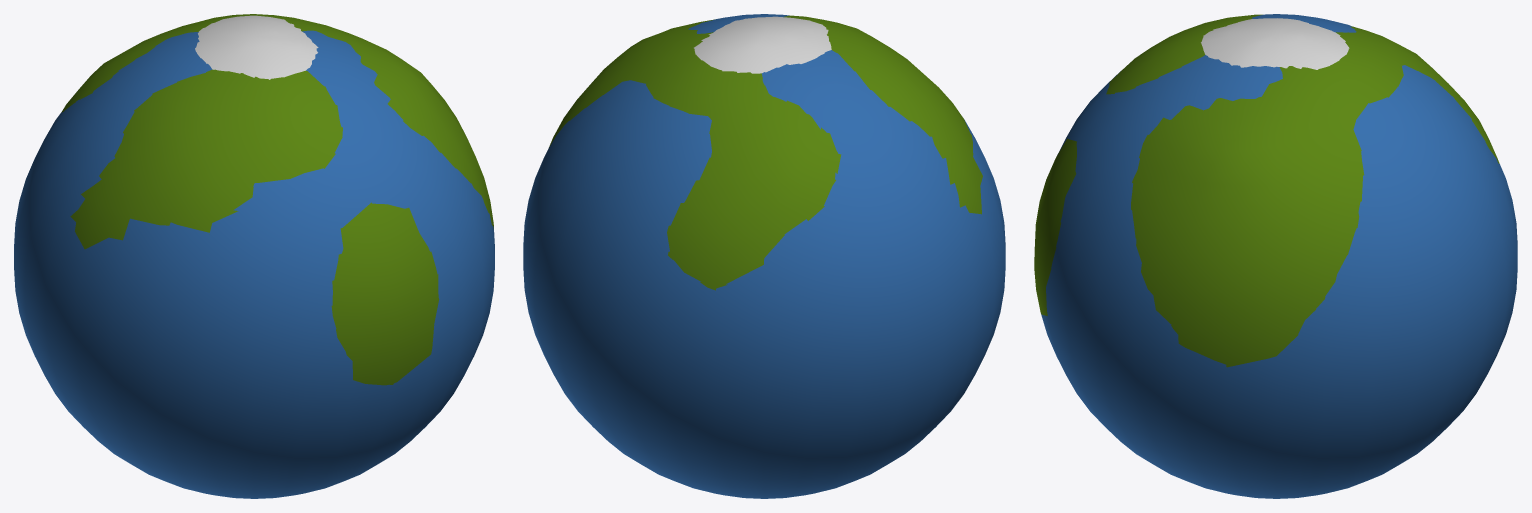
Rendered from Earth.fbx.
3 views of the same model, side by side, from view 1: azimuth 30°, elevation 25°; view 2: azimuth 150°, elevation 25°; view 3: azimuth 270°, elevation 25° (orthographic).
Parts seen in each view (by area): view 1: Earth; view 2: Earth; view 3: Earth.
Part boxes in pixels (left/top/right/bottom): Earth: left=14, top=14, right=494, bottom=498; Earth: left=523, top=14, right=1005, bottom=498; Earth: left=1034, top=14, right=1517, bottom=498.
Bounding box in the file's own units: 2 × 2.01 × 1.99.
